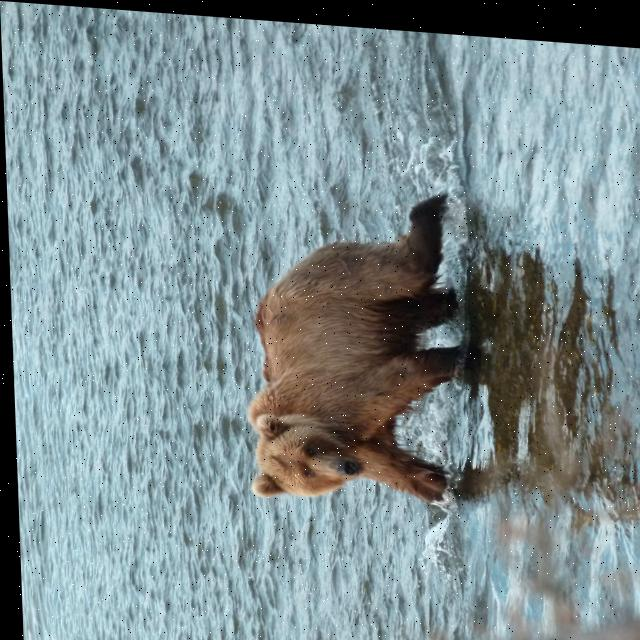bear face: (235, 173, 459, 504)
